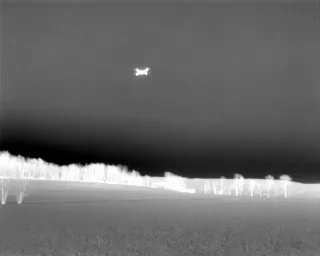DRONE: (131, 63, 154, 82)
